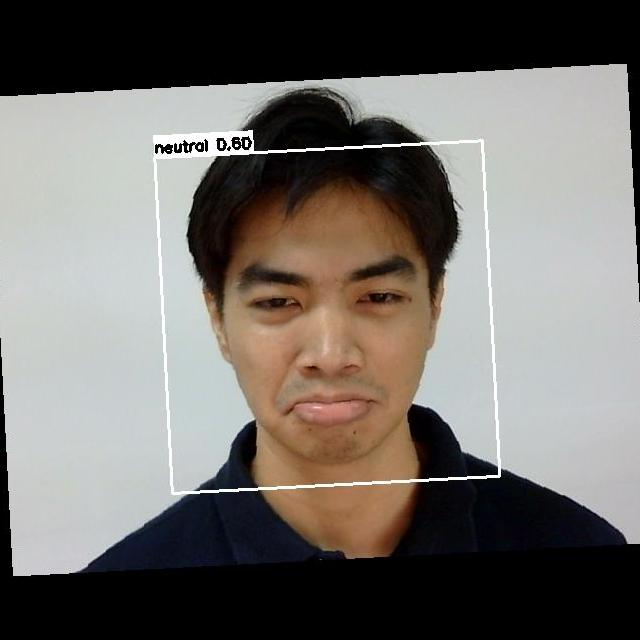Sad: (208, 233, 446, 448)
